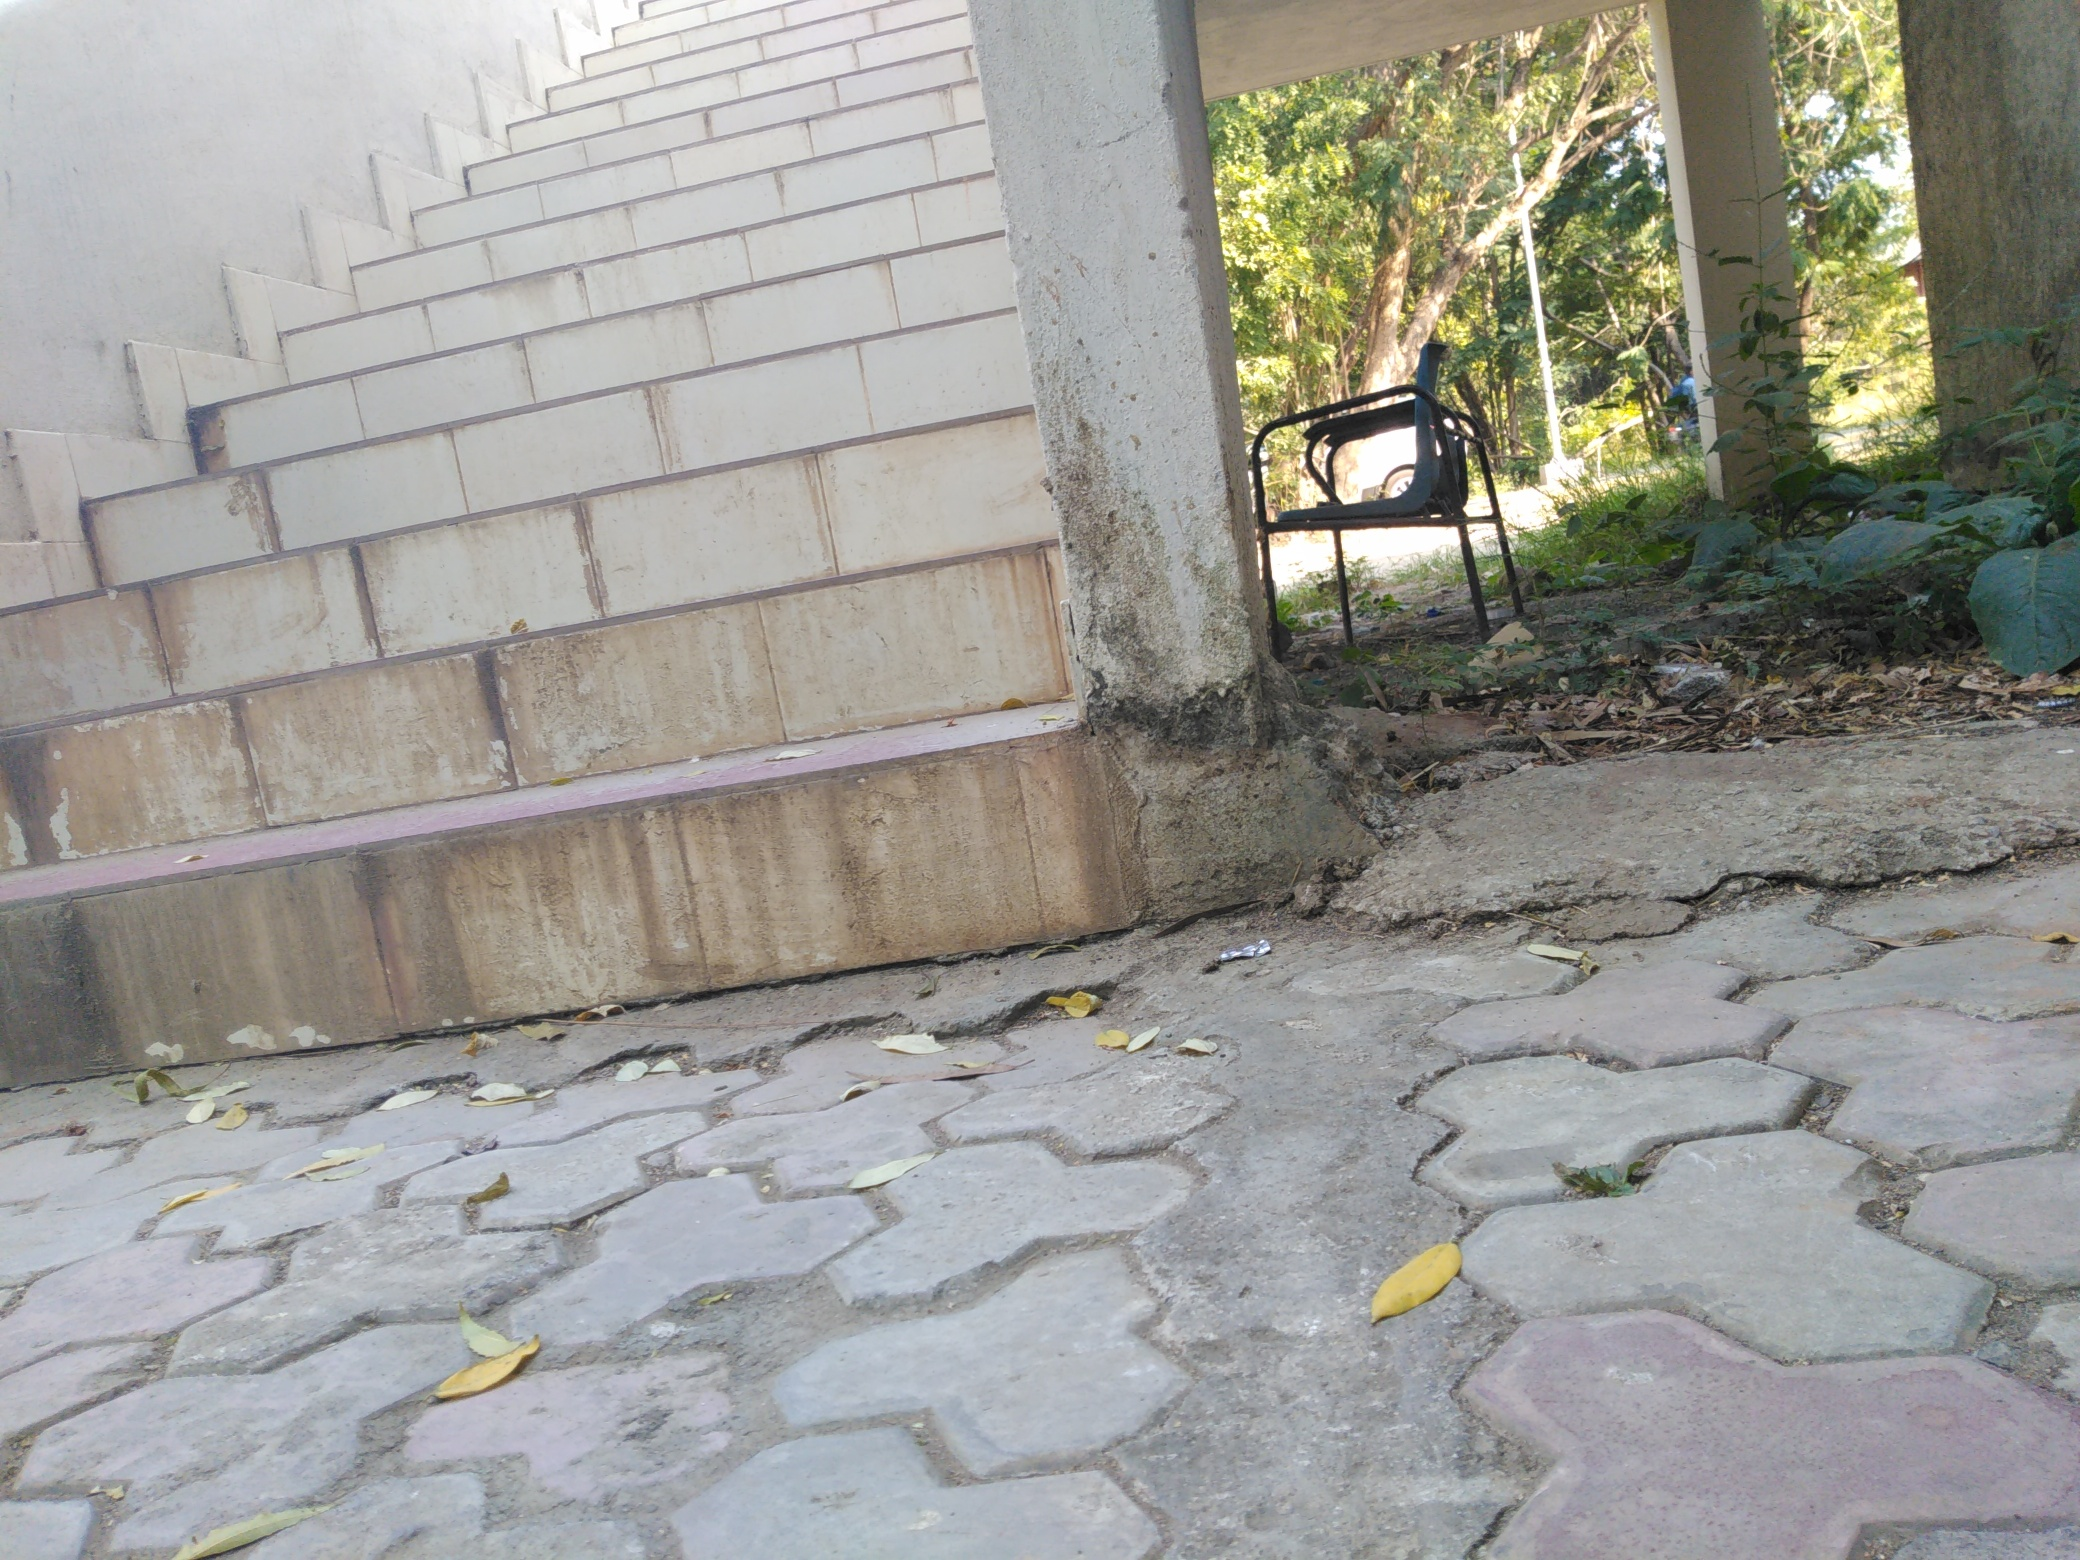stairs_up: (26, 29, 1132, 1001)
